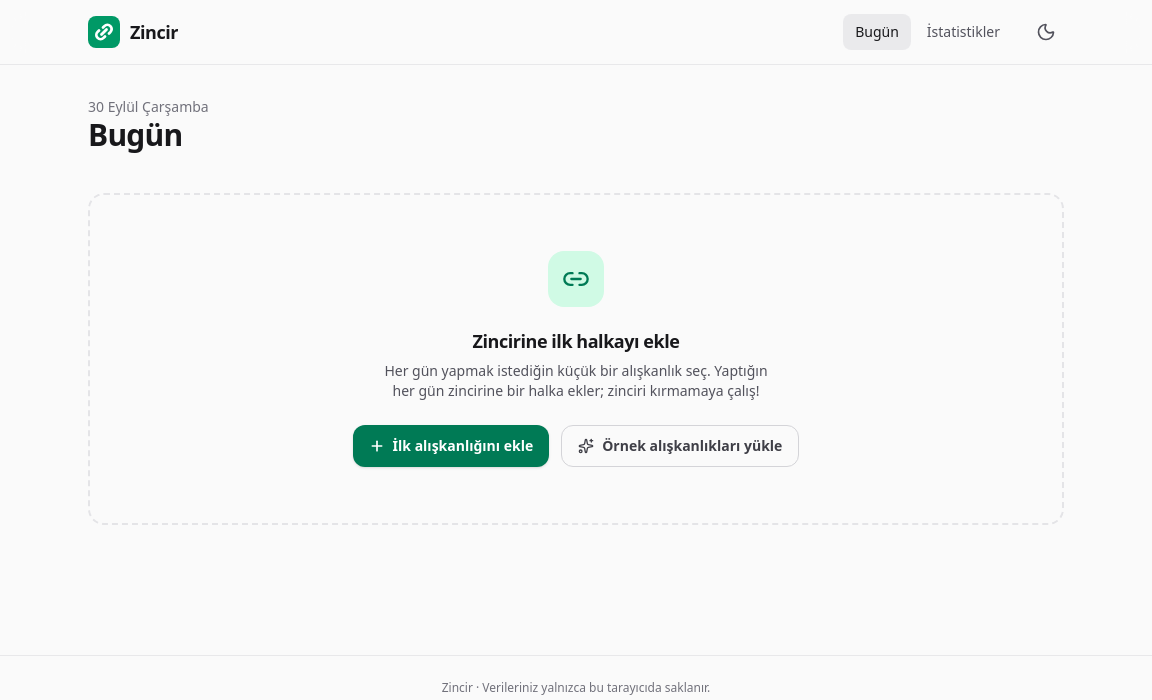
Scenario: Filtreler ve sayfalar › İstatistikler sayfası özet kartlarını ve grafik tablosunu gösterir
Click the button "Örnek alışkanlıkları yükle".
click(680, 446)  # box [561,425,799,467]
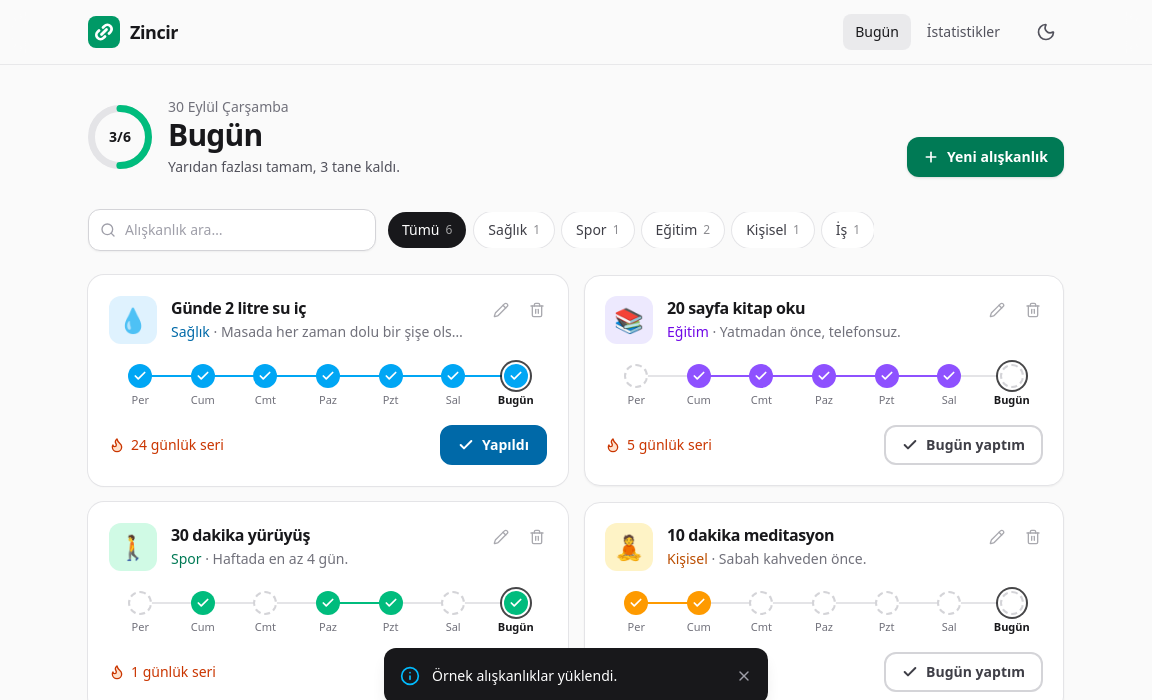
Click the link "İstatistikler".
click(963, 32)  # box [927,22,1000,41]
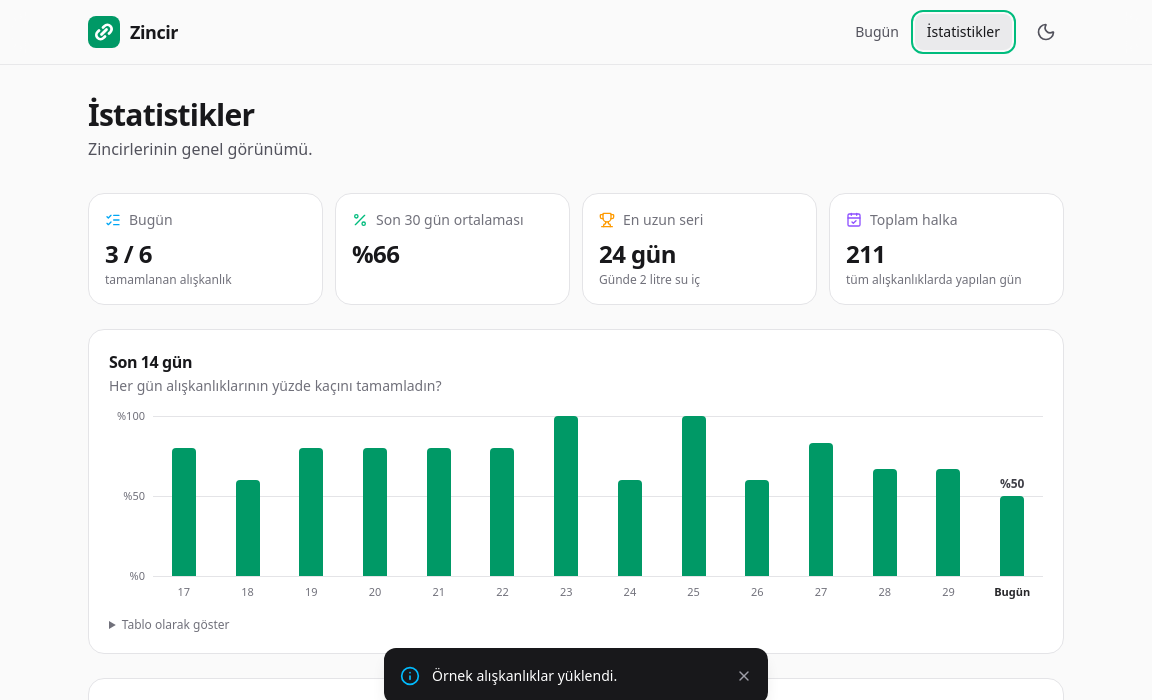
Expected: the heading "İstatistikler" is shown, [88,94,254,135]
